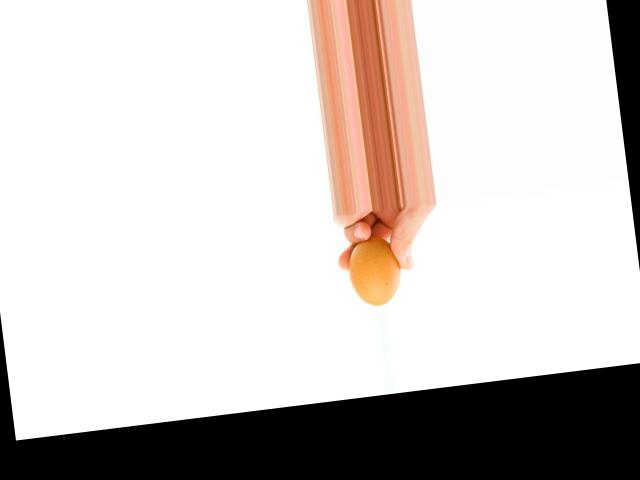egg: (344, 235, 404, 308)
